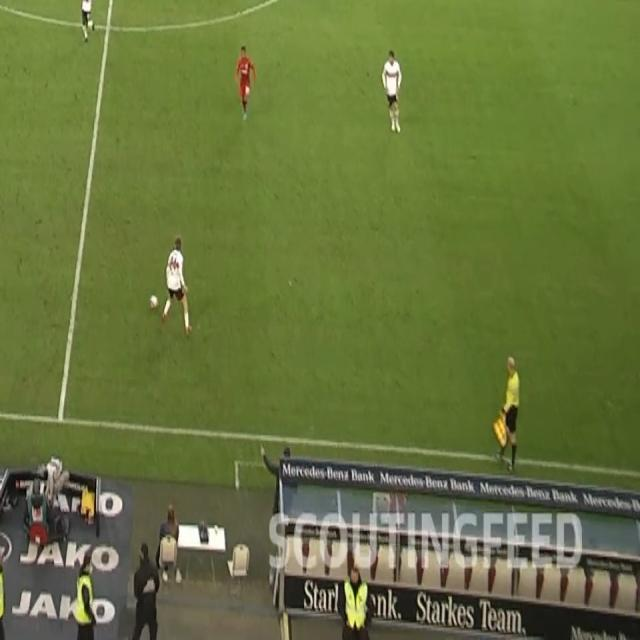ball: (149, 293, 159, 311)
